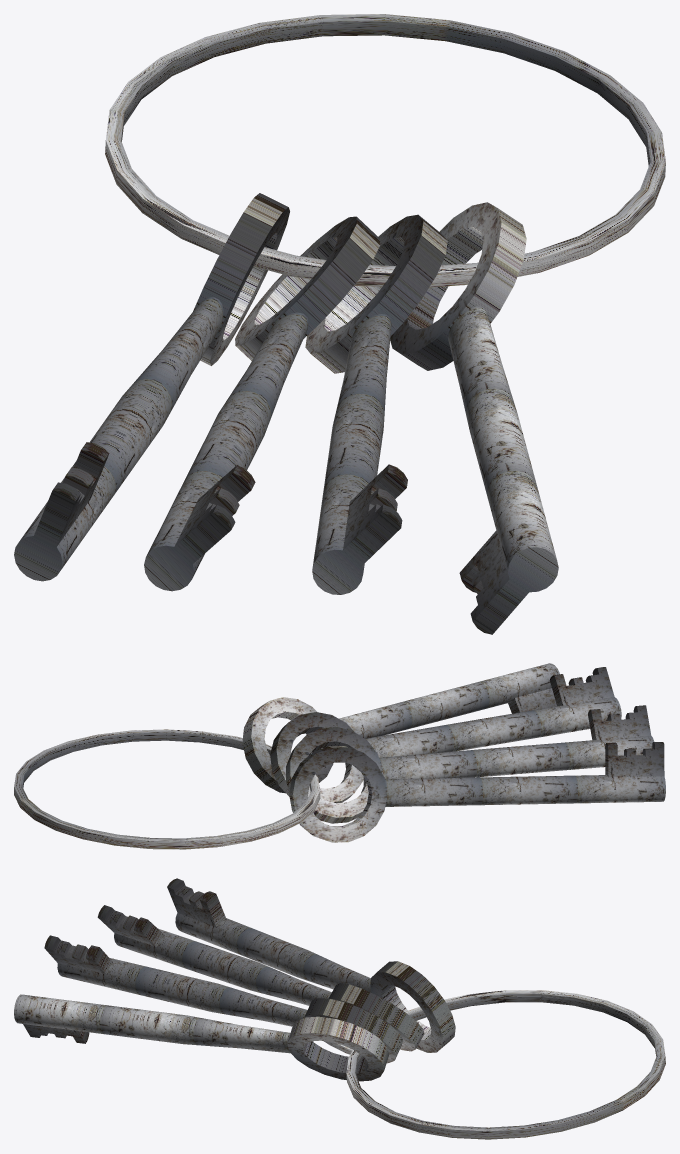
The model's file is CellKeys.FBX.
3 renders of one model, top to bottom at view 1: azimuth 30°, elevation 25°; view 2: azimuth 150°, elevation 25°; view 3: azimuth 270°, elevation 25°, orthographic. The views are drawn at different scales.
Visible parts, largest first — view 1: Tube003; view 2: Tube003; view 3: Tube003.
Part boxes in pixels (box(x1,y1,x2,y2)): Tube003: box(14, 14, 665, 634); Tube003: box(14, 663, 665, 849); Tube003: box(14, 878, 665, 1139).
Size of the model in its own units: 1190 by 219 by 1334.
Materials: 5 (5 with a texture image).
